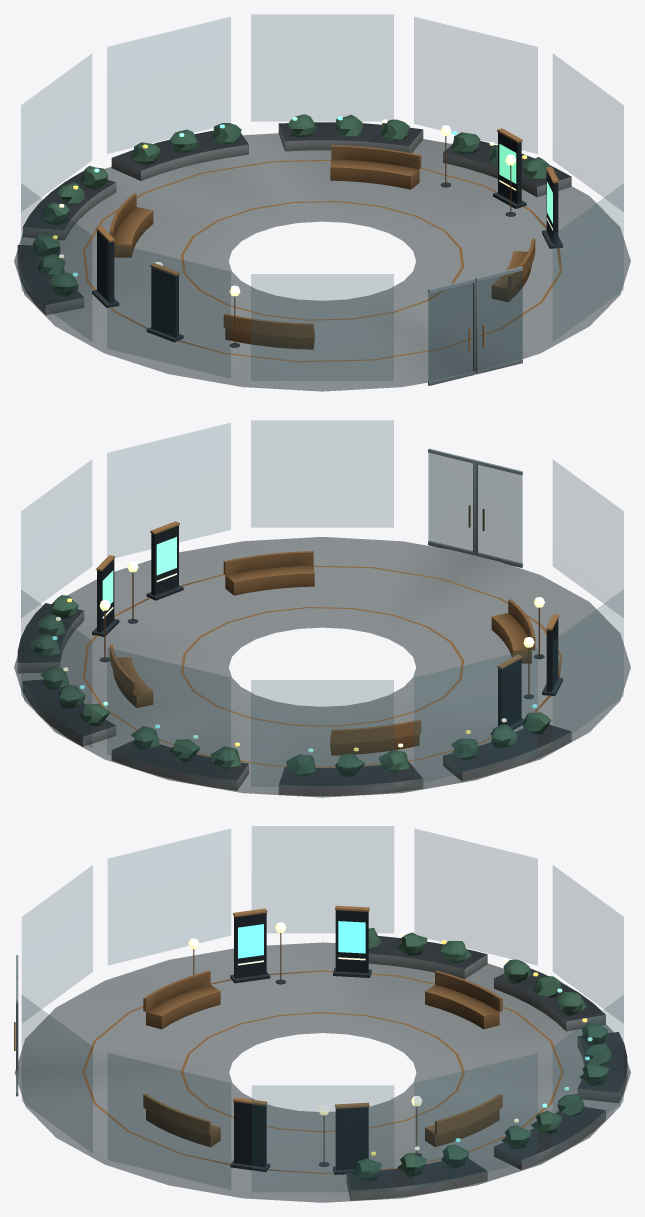
File: lobby-graph.lod1.glb
The picture shows the model from 3 angles, top to bottom: view 1: azimuth 30°, elevation 25°; view 2: azimuth 150°, elevation 25°; view 3: azimuth 270°, elevation 25°; orthographic projection.
Parts seen in each view (by area): view 1: structure, door_0_l, door_0_r; view 2: structure, door_0_l, door_0_r; view 3: structure.
Part boxes in pixels (bbox=[...]): structure: bbox=[14, 14, 630, 391]; door_0_l: bbox=[428, 278, 475, 385]; door_0_r: bbox=[475, 266, 522, 374]; structure: bbox=[14, 420, 630, 797]; door_0_l: bbox=[475, 460, 522, 567]; door_0_r: bbox=[428, 448, 475, 555]; structure: bbox=[14, 826, 630, 1202].
Size of the model in its own units: 18.1 by 3.82 by 18.12.
